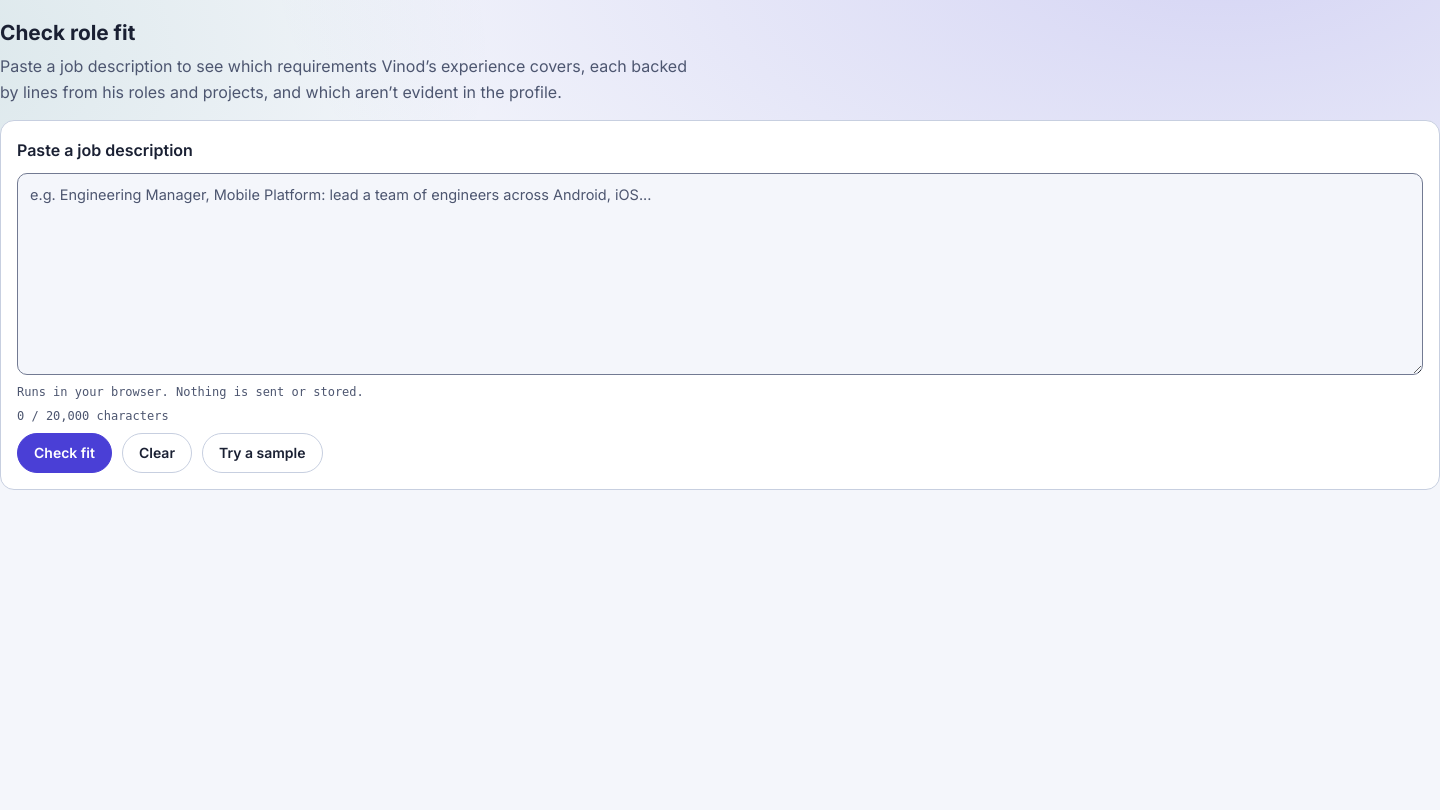
Scenario: RoleFit › updates the results as the visitor types (debounced), without announcing each change
Replace the text in the text box labelled "Paste a job description" with "Engineering Manager, Mobile & Connected Devices Platform We are a growing technology company building a platform that connects mobile apps, IoT devices and cloud services for enterprise customers. We'". click: x=720, y=274
box: x1=17 y1=173 x2=1423 y2=375
(page scrolled)
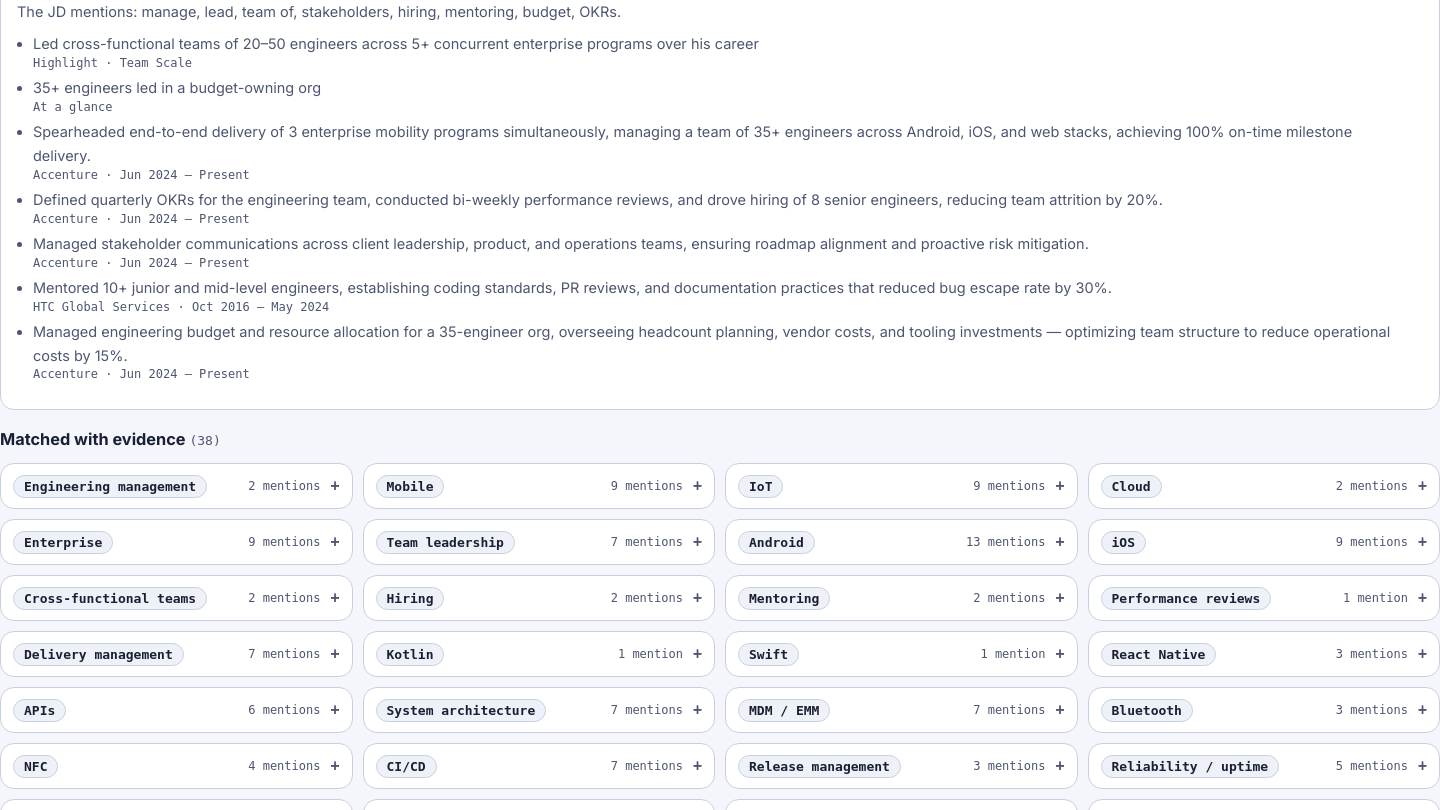
Check: the heading "Matched with evidence (38)" is shown, box x1=0 y1=429 x2=221 y2=449
